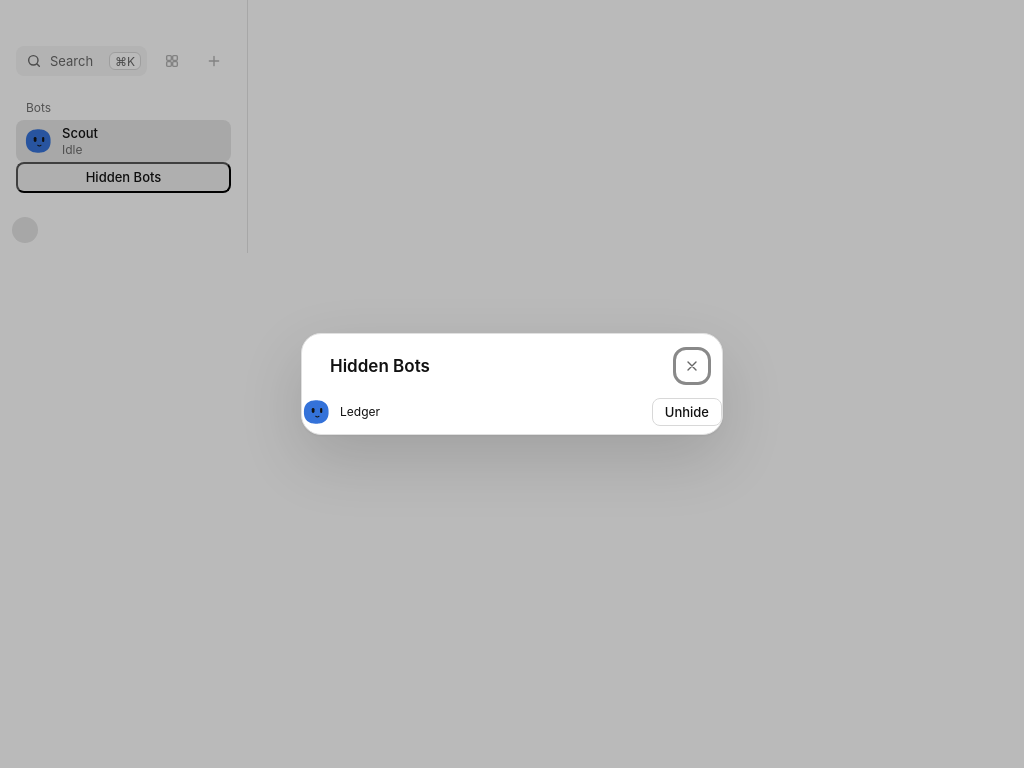
Test: bot-actions.ts error handling (fix round 1, finding 2) › surfaces a visible error and doesn't crash when Unhide fails
Click the button "Unhide" at (687, 412), box [652,398,722,426]
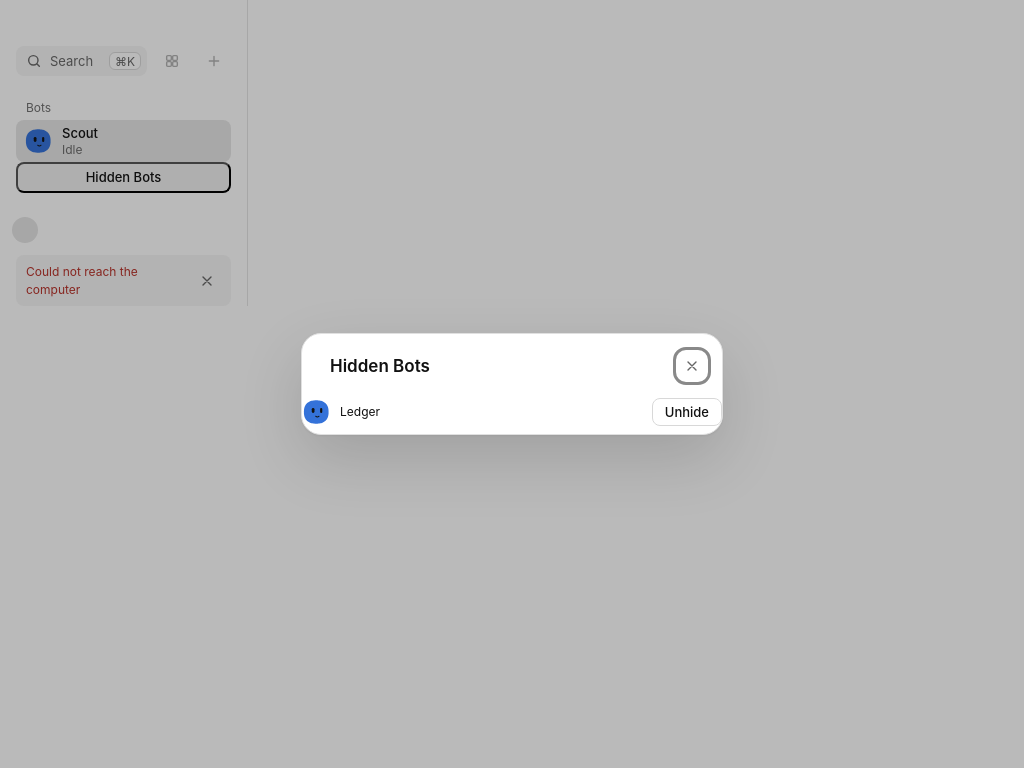
Now the message reads "Could not reach the computer", box [26,264,138,297]
